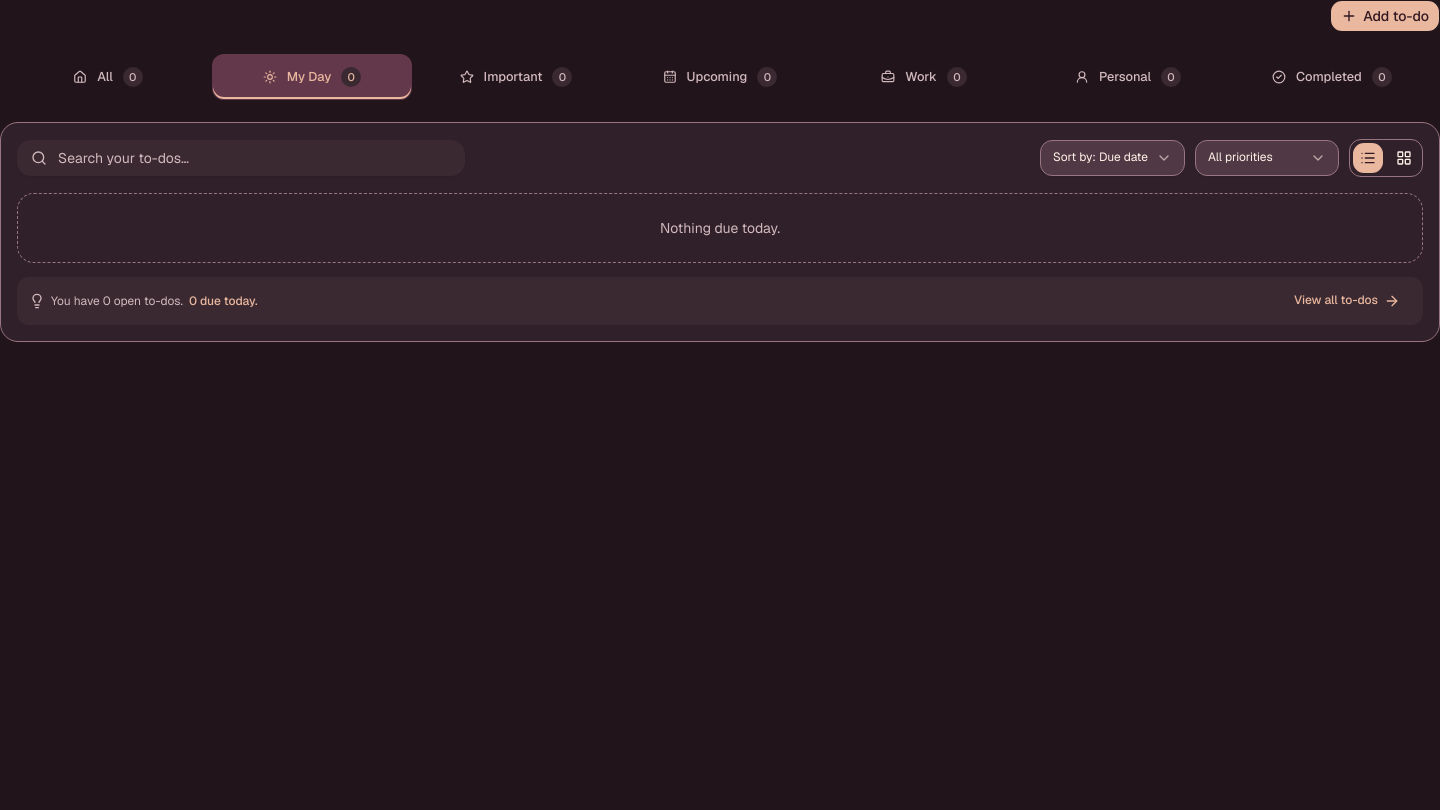
Test: TodoManager › offers related event and project options sourced from the real API
Click the button "Add to-do". click: (1385, 16)
box: 1330,0 -> 1439,32
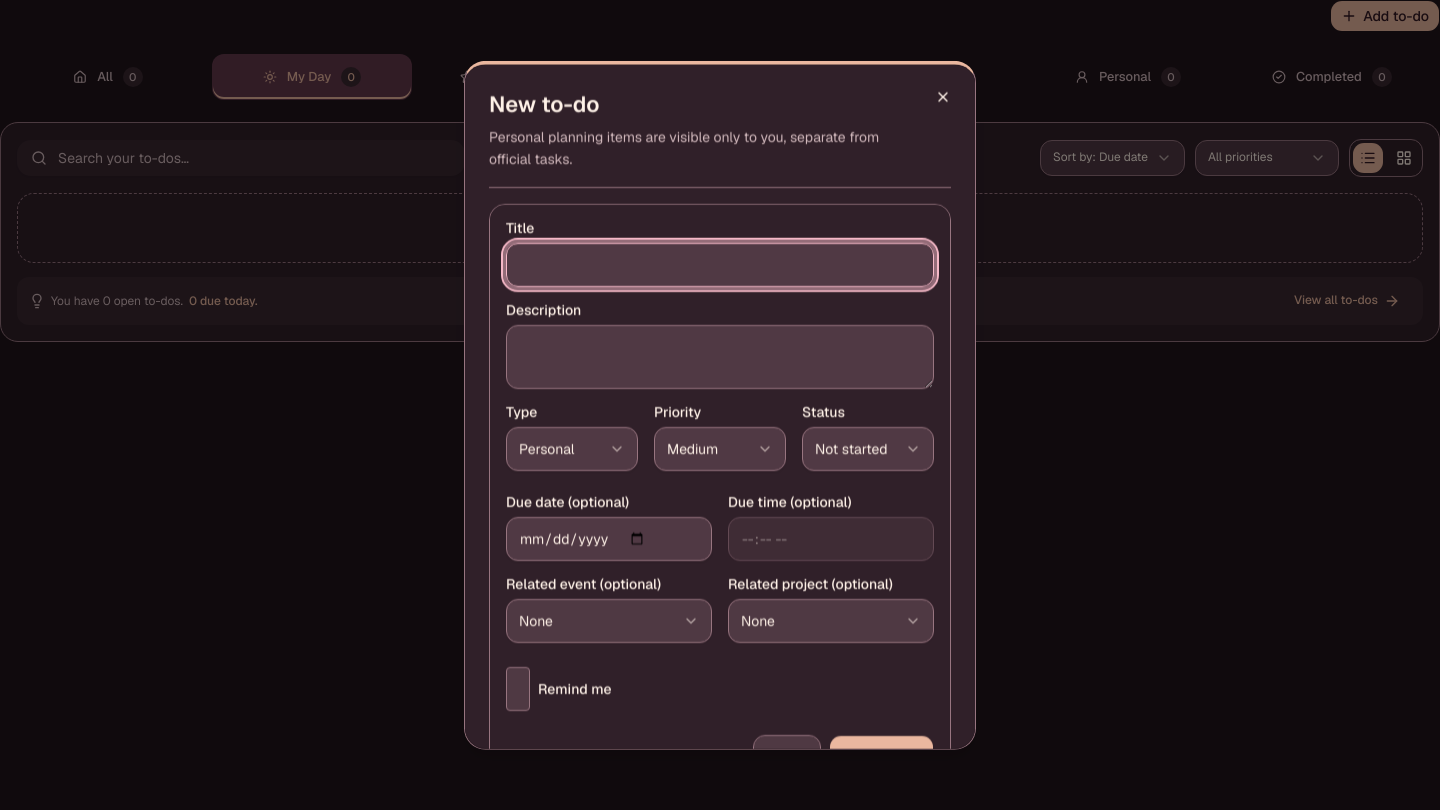
Click the dropdown named "Related event (optional)". click: (609, 620)
box: 506,598 -> 712,642
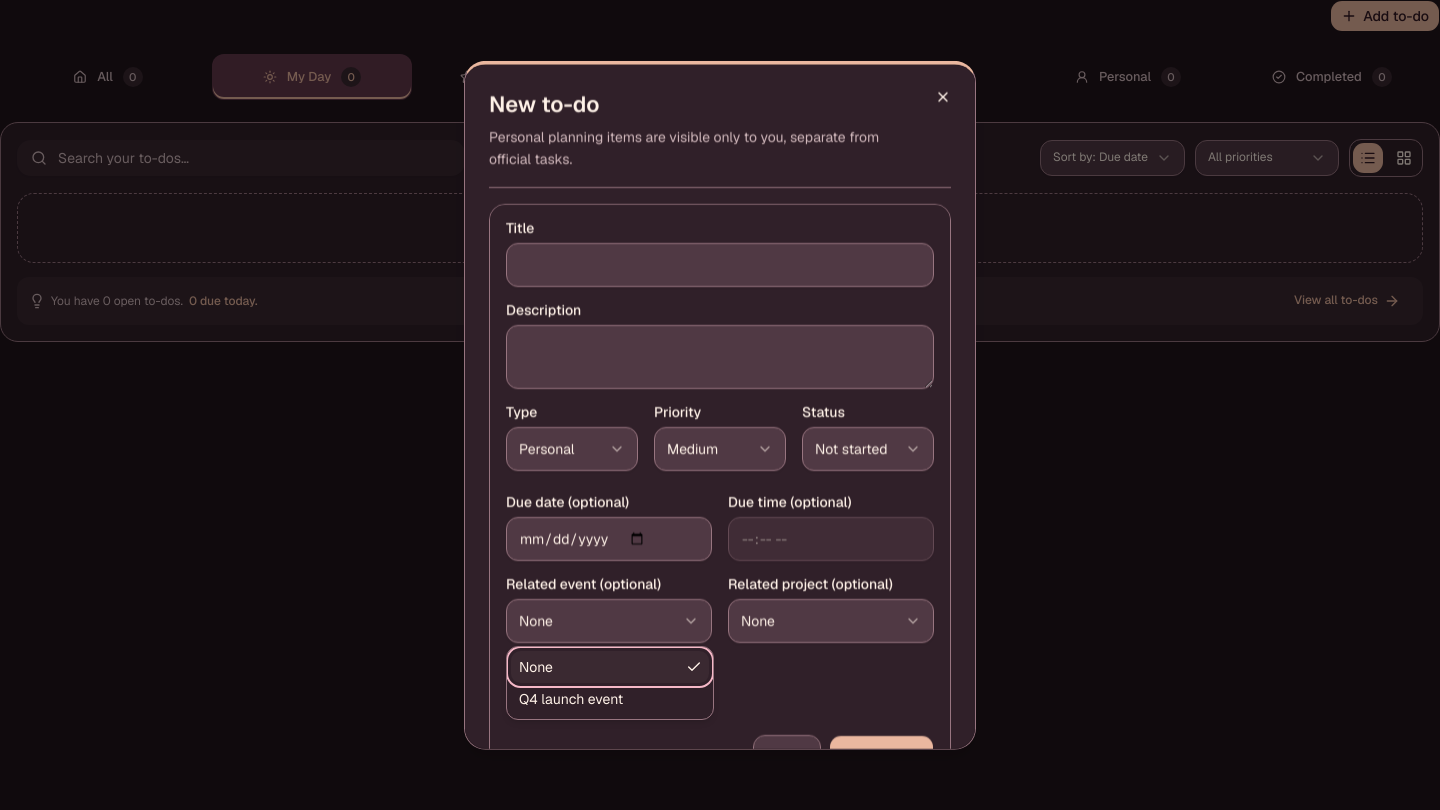
Now the option "Q4 launch event" is shown, box 519,690 -> 623,708
